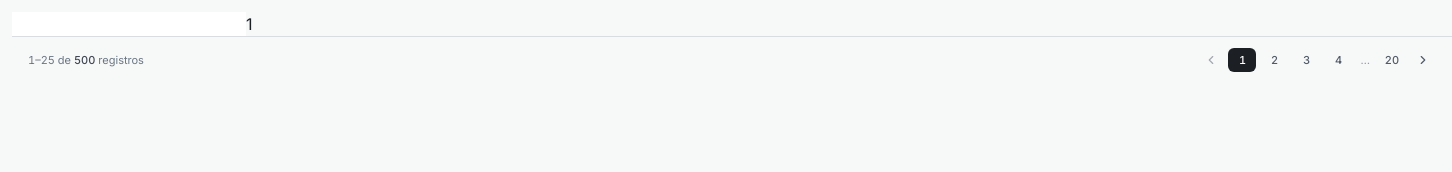
usarPaginaConFiltros › conserva la página mientras los filtros no cambian
Click the button "3": click(1306, 60) [1292,48,1320,72]
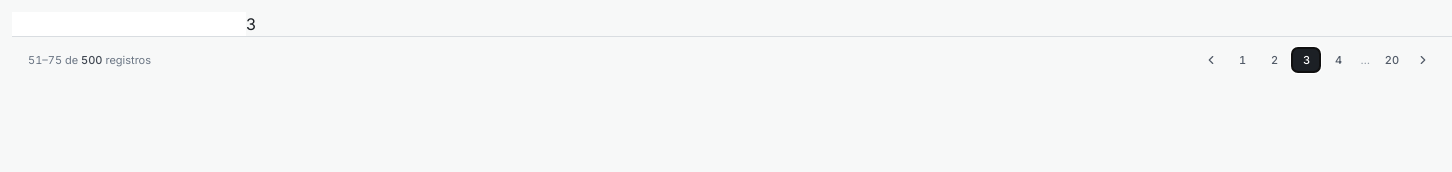
Click the button named "Página siguiente": click(1423, 60) [1410,47,1436,73]
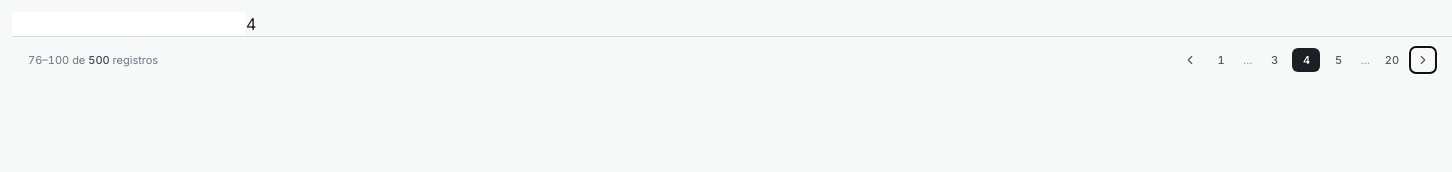
expect the text "4" is shown: met, box [246,14,256,34]
